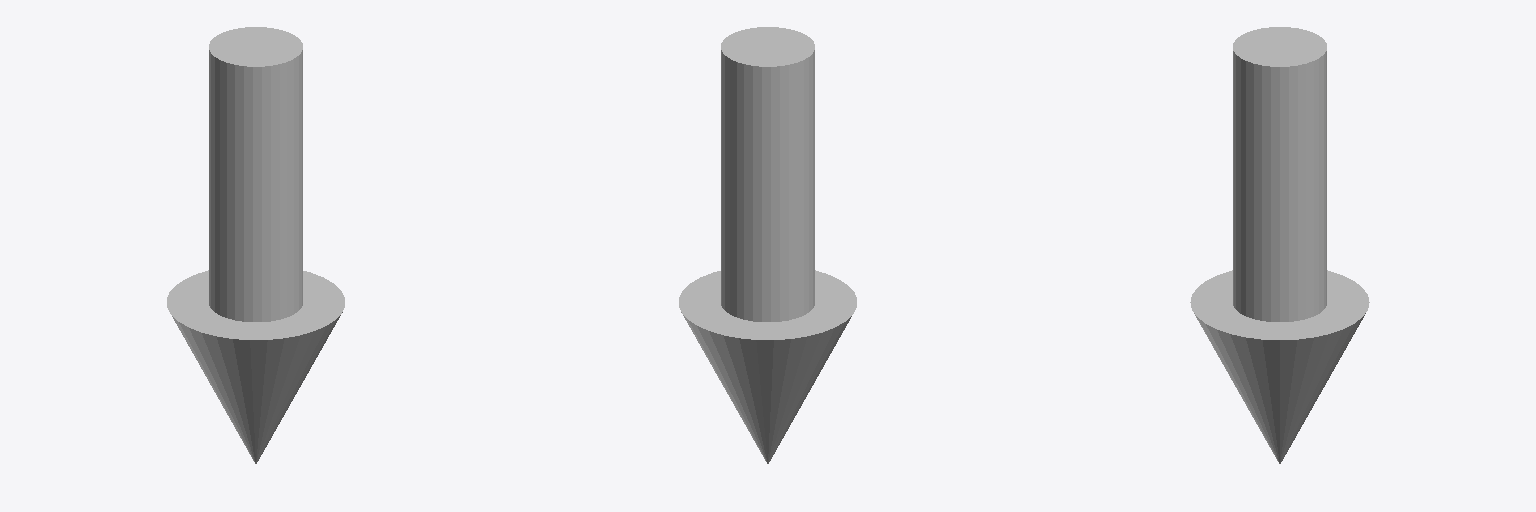
The model's file is Arrow.obj.
3 views of the same model, side by side, from view 1: azimuth 30°, elevation 25°; view 2: azimuth 150°, elevation 25°; view 3: azimuth 270°, elevation 25° (orthographic).
Visible parts, largest first — view 1: Cone; view 2: Cone; view 3: Cone.
Part boxes in pixels (x1,y1,x2,y2): Cone: (167,27,344,463); Cone: (679,27,856,463); Cone: (1190,27,1369,463).
Size of the model in its own units: 2 by 5.14 by 2.